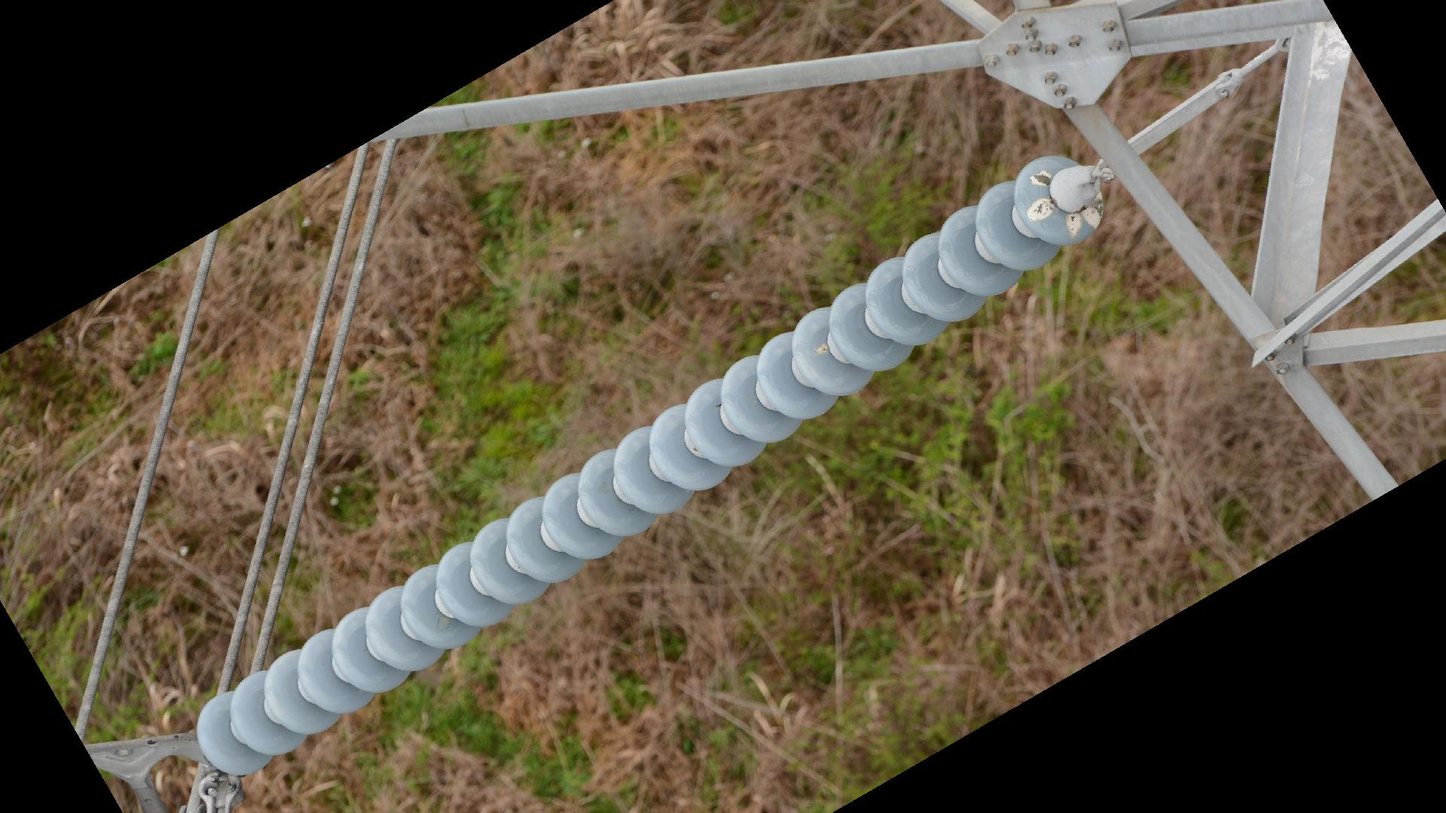insulator: (188, 147, 1108, 782)
insulator_flashover: (1063, 190, 1106, 241), (1023, 195, 1057, 224), (1025, 167, 1054, 190)
